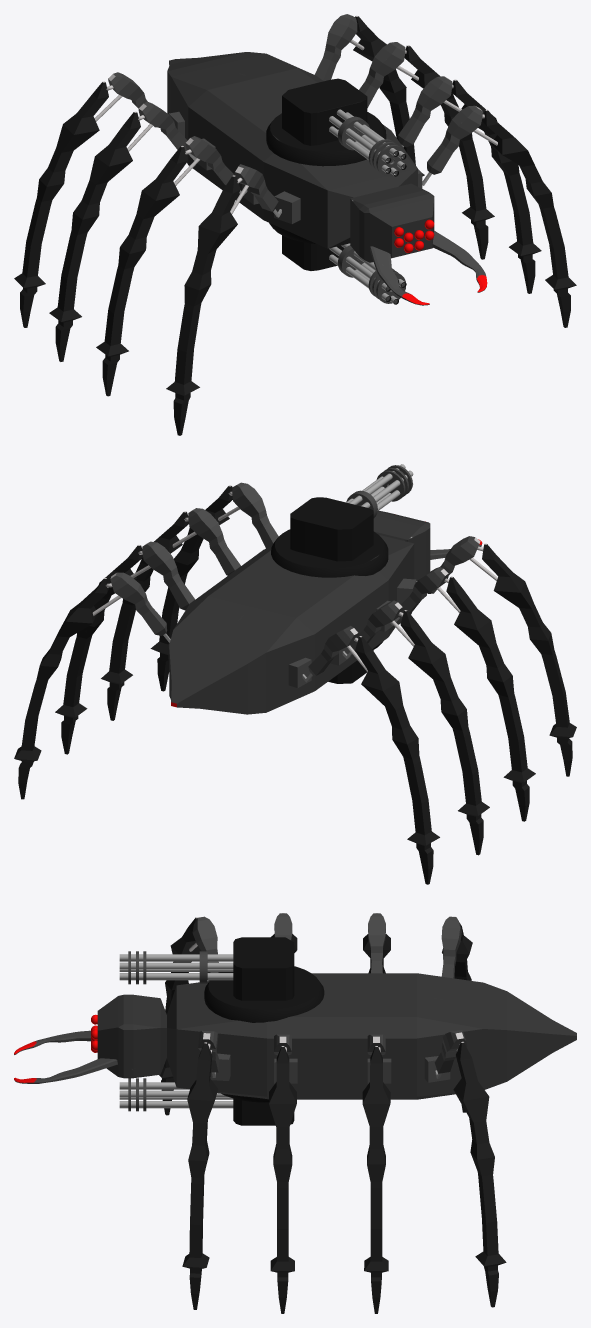
Rendered from Spider_Boss.fbx.
The picture shows the model from 3 angles, top to bottom: view 1: azimuth 30°, elevation 25°; view 2: azimuth 150°, elevation 25°; view 3: azimuth 270°, elevation 25°; orthographic projection. The views are drawn at different scales.
Parts seen in each view (by area): view 1: body_msh, turret_0_msh, leg_4_msh, leg_6_msh, leg_5_msh, leg _7_msh, leg_0_msh, leg_1_msh, leg_2_msh, leg_3_msh, Gun_rotate_0_msh, gun_rotate_1_msh (+3 smaller); view 2: body_msh, turret_0_msh, leg _7_msh, leg_5_msh, leg_6_msh, leg_4_msh, leg_3_msh, leg_2_msh, leg_1_msh, leg_0_msh, Gun_rotate_0_msh; view 3: body_msh, turret_0_msh, leg_3_msh, leg_0_msh, leg_2_msh, leg_1_msh, Gun_rotate_0_msh, gun_rotate_1_msh, leg_4_msh, leg _7_msh, leg_6_msh, turret_1_msh (+3 smaller).
Part boxes in pixels (<box>): body_msh: <box>167,52,434,262</box>; turret_0_msh: <box>266,78,386,166</box>; leg_4_msh: <box>166,164,281,435</box>; leg_6_msh: <box>49,101,196,361</box>; leg_5_msh: <box>96,136,247,396</box>; leg _7_msh: <box>14,72,156,327</box>; leg_0_msh: <box>422,105,576,327</box>; leg_1_msh: <box>398,76,541,293</box>; leg_2_msh: <box>359,42,494,259</box>; leg_3_msh: <box>314,14,424,176</box>; Gun_rotate_0_msh: <box>329,109,406,176</box>; gun_rotate_1_msh: <box>329,243,406,304</box>; body_msh: <box>169,510,430,714</box>; turret_0_msh: <box>271,497,388,577</box>; leg _7_msh: <box>302,626,439,884</box>; leg_5_msh: <box>390,567,535,821</box>; leg_6_msh: <box>342,600,489,855</box>; leg_4_msh: <box>427,536,576,776</box>; leg_3_msh: <box>14,572,170,799</box>; leg_2_msh: <box>55,541,194,754</box>; leg_1_msh: <box>101,508,240,720</box>; leg_0_msh: <box>150,482,278,691</box>; Gun_rotate_0_msh: <box>346,464,413,518</box>; body_msh: <box>97,973,576,1099</box>; turret_0_msh: <box>204,937,324,1022</box>; leg_3_msh: <box>434,1030,506,1307</box>; leg_0_msh: <box>182,1030,219,1309</box>; leg_2_msh: <box>362,1034,390,1313</box>; leg_1_msh: <box>269,1034,296,1313</box>; Gun_rotate_0_msh: <box>119,951,233,984</box>; gun_rotate_1_msh: <box>119,1078,233,1111</box>; leg_4_msh: <box>159,916,218,1115</box>; leg _7_msh: <box>441,916,472,1112</box>; leg_6_msh: <box>363,913,390,973</box>; turret_1_msh: <box>221,1093,294,1125</box>.
Size of the model in its own units: 495 by 280 by 557.
